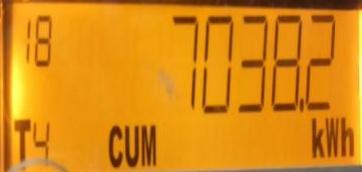.: (306, 115, 355, 160)
0: (297, 98, 306, 112)
1: (200, 16, 234, 113)
3: (304, 13, 339, 110)
4: (237, 15, 269, 113)
8: (170, 14, 201, 110)
9: (270, 13, 303, 112)
